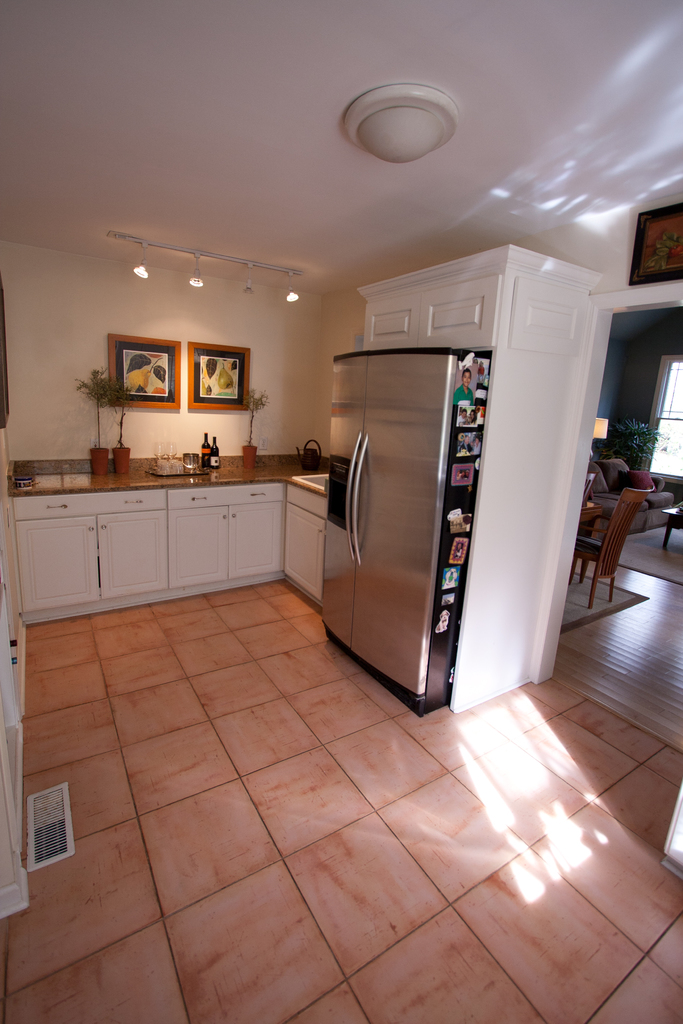cabinet door: (17, 519, 97, 600), (100, 508, 162, 590), (226, 505, 282, 582), (172, 503, 229, 572), (31, 489, 161, 518), (173, 478, 280, 509), (286, 511, 326, 586)
handle: (353, 441, 371, 572), (344, 437, 359, 565)
refrigerator door: (364, 364, 434, 676), (329, 364, 363, 639)
